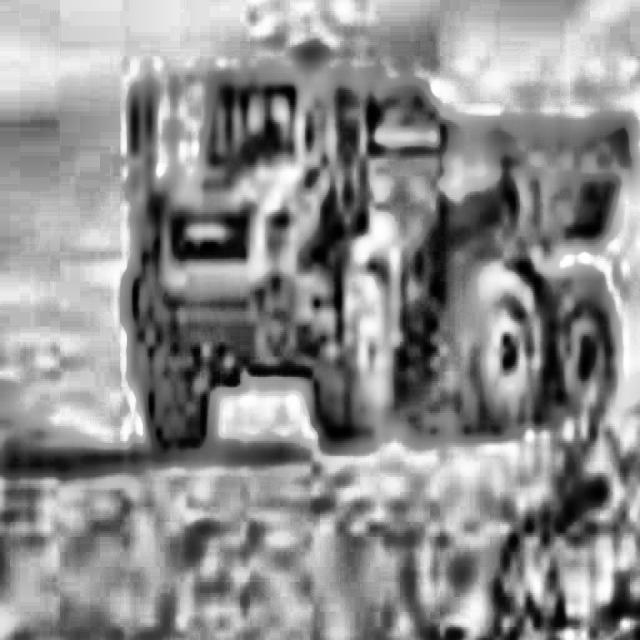dump_truck: (97, 3, 640, 467)
